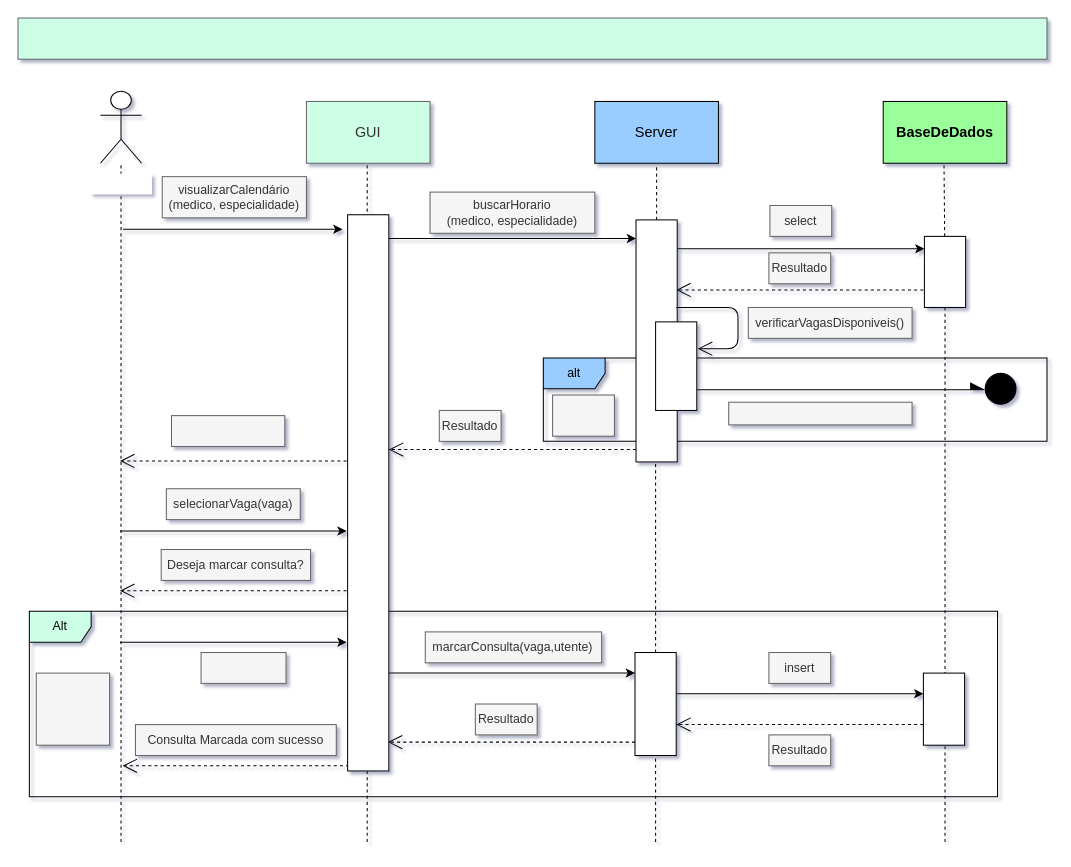
Some shapes in this 1071 by 867 pixel diagram are drawn without their labels. Each missing label, with the centre of its shape:
"[Não ha vagas]" belongs at pixel 583 415.
"[Resposta Positiva]" belongs at pixel 72 708.
"CALENDARIO GERAL | MARCAR CONSULTAS" belongs at pixel 532 38.
"Calendário" belongs at pixel 227 431.
"notificarResponsavel(message)" belongs at pixel 820 413.
"Pessoa" belongs at pixel 120 183.
"Resposta" belongs at pixel 243 667.
